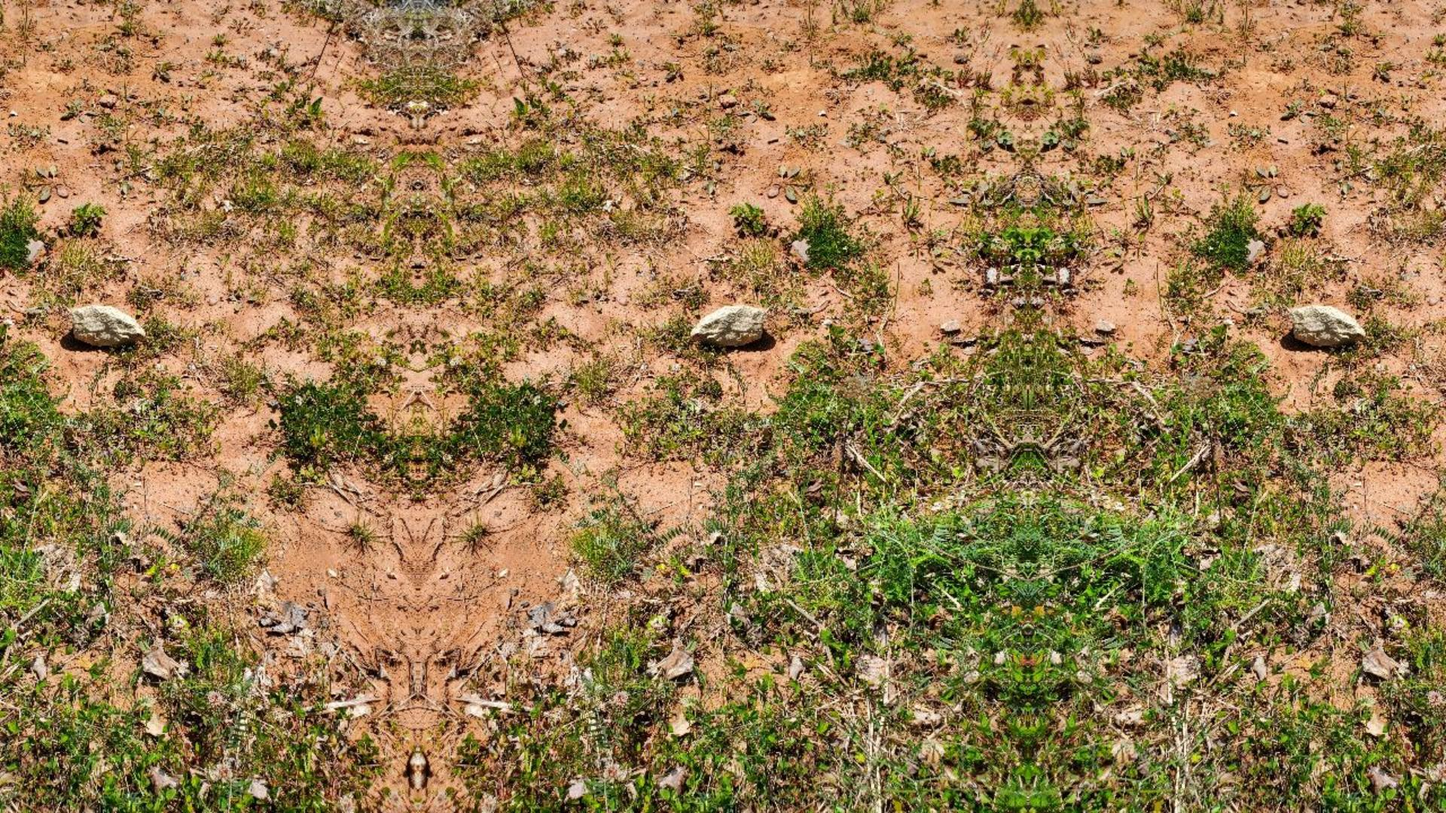rock: (690, 305, 766, 347), (1289, 305, 1365, 347), (69, 305, 143, 347)
